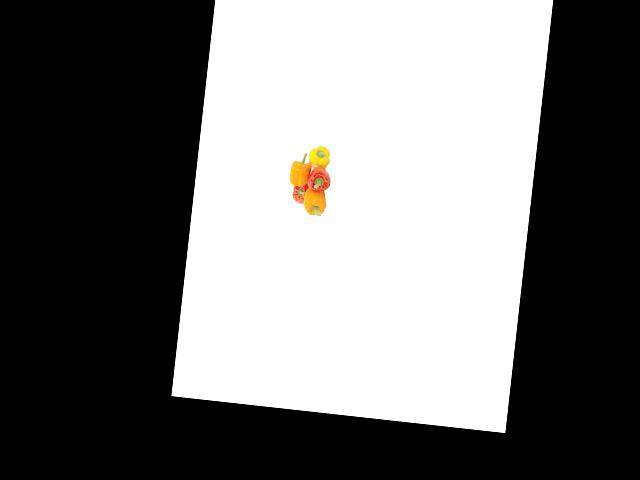bell_pepper: (299, 185, 330, 223)
